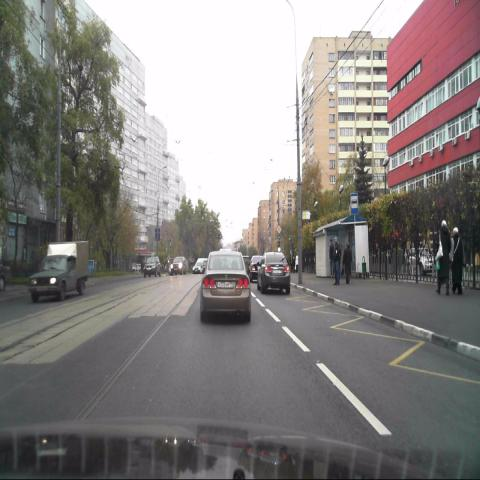5_16: (350, 192, 359, 214)
